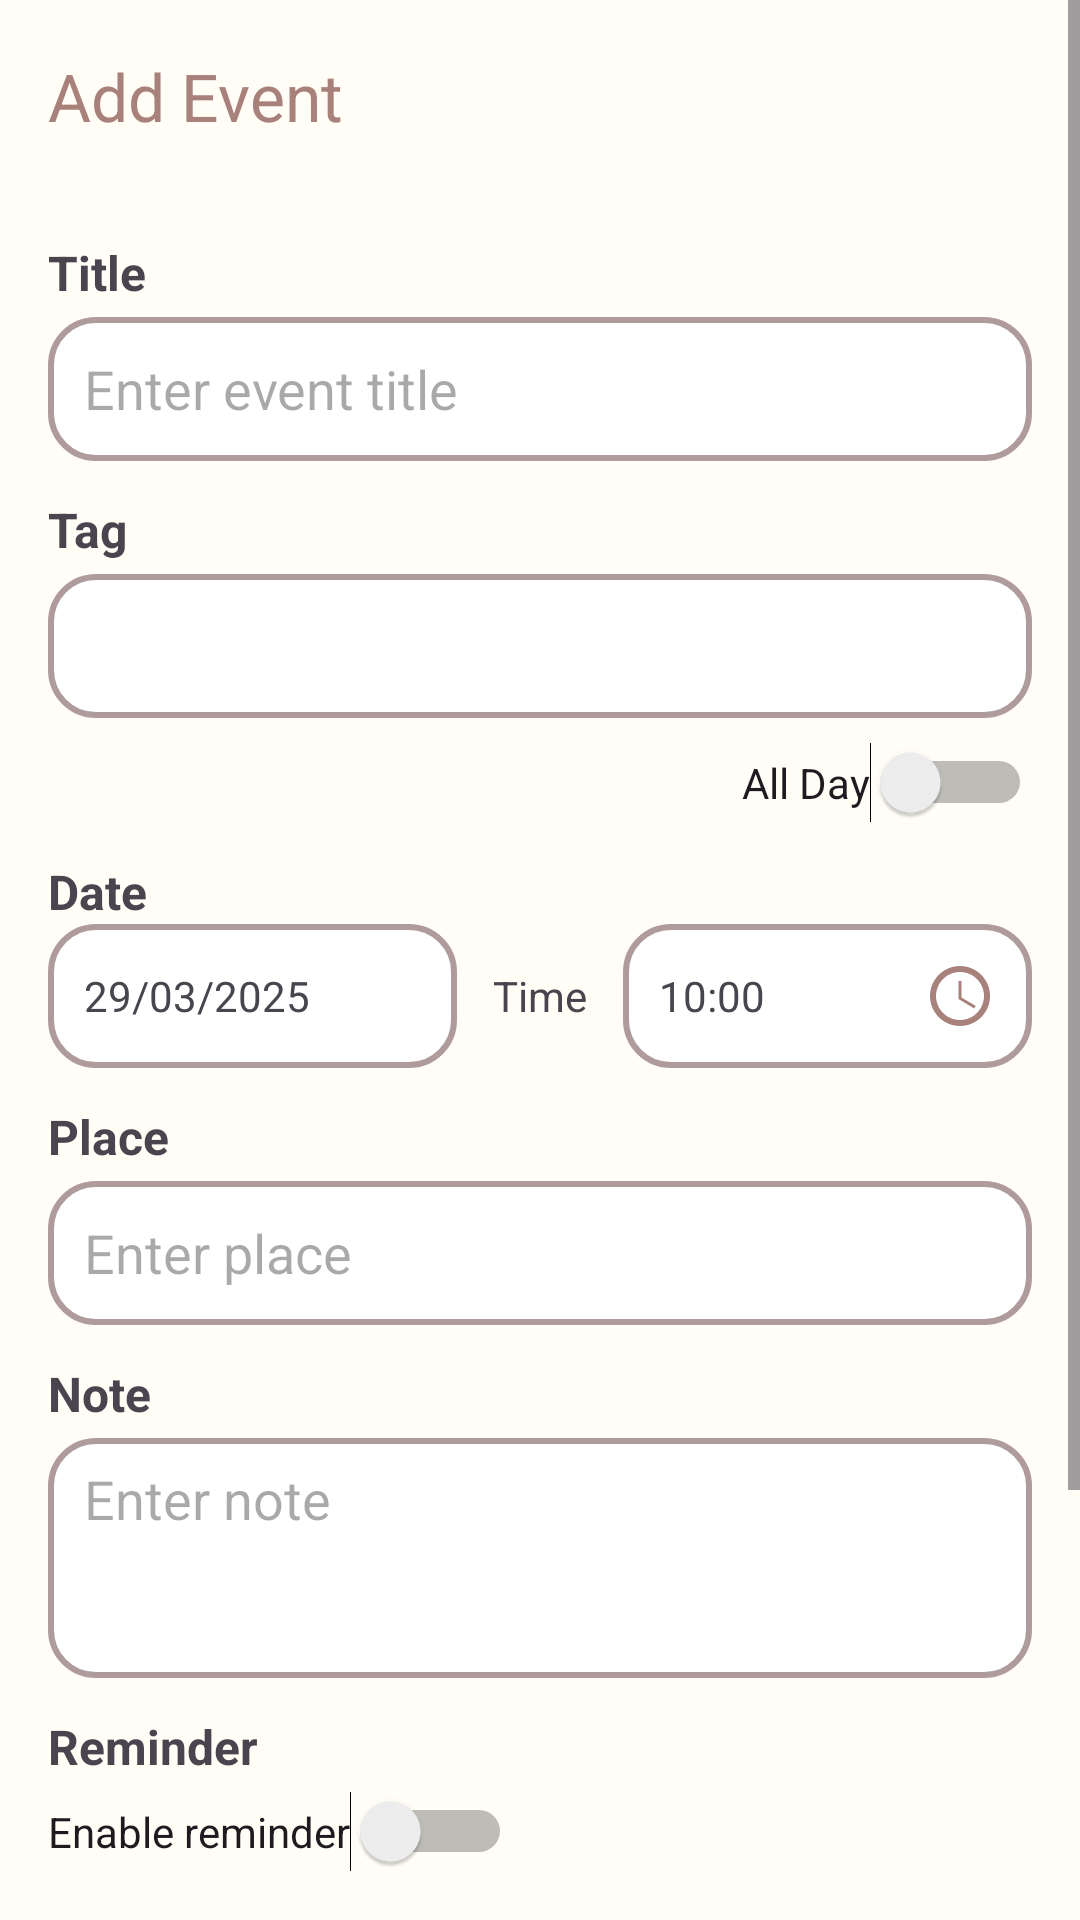

Named icons in this screenshot (1080 × 1920) and their bounding boxes, (x1, y1, x2, y2):
clock: (930, 966, 990, 1026)
